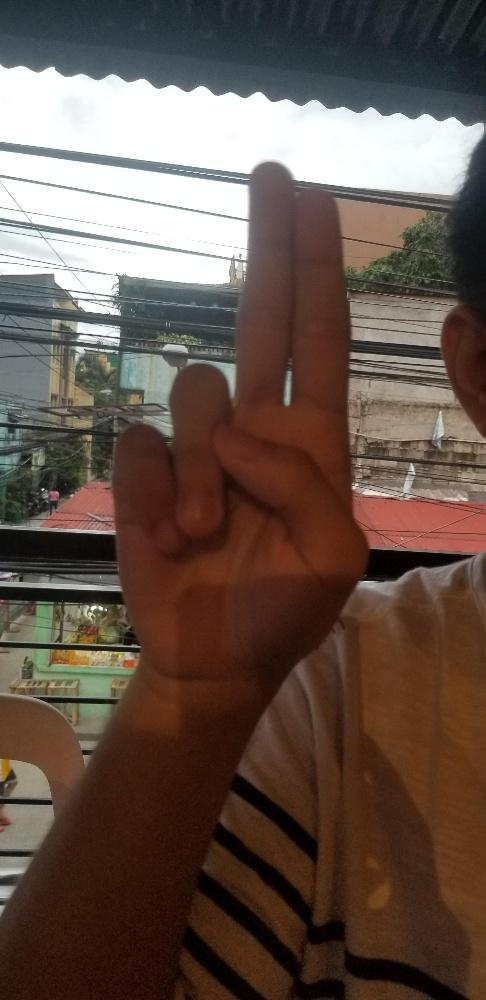u: (111, 158, 370, 677)
